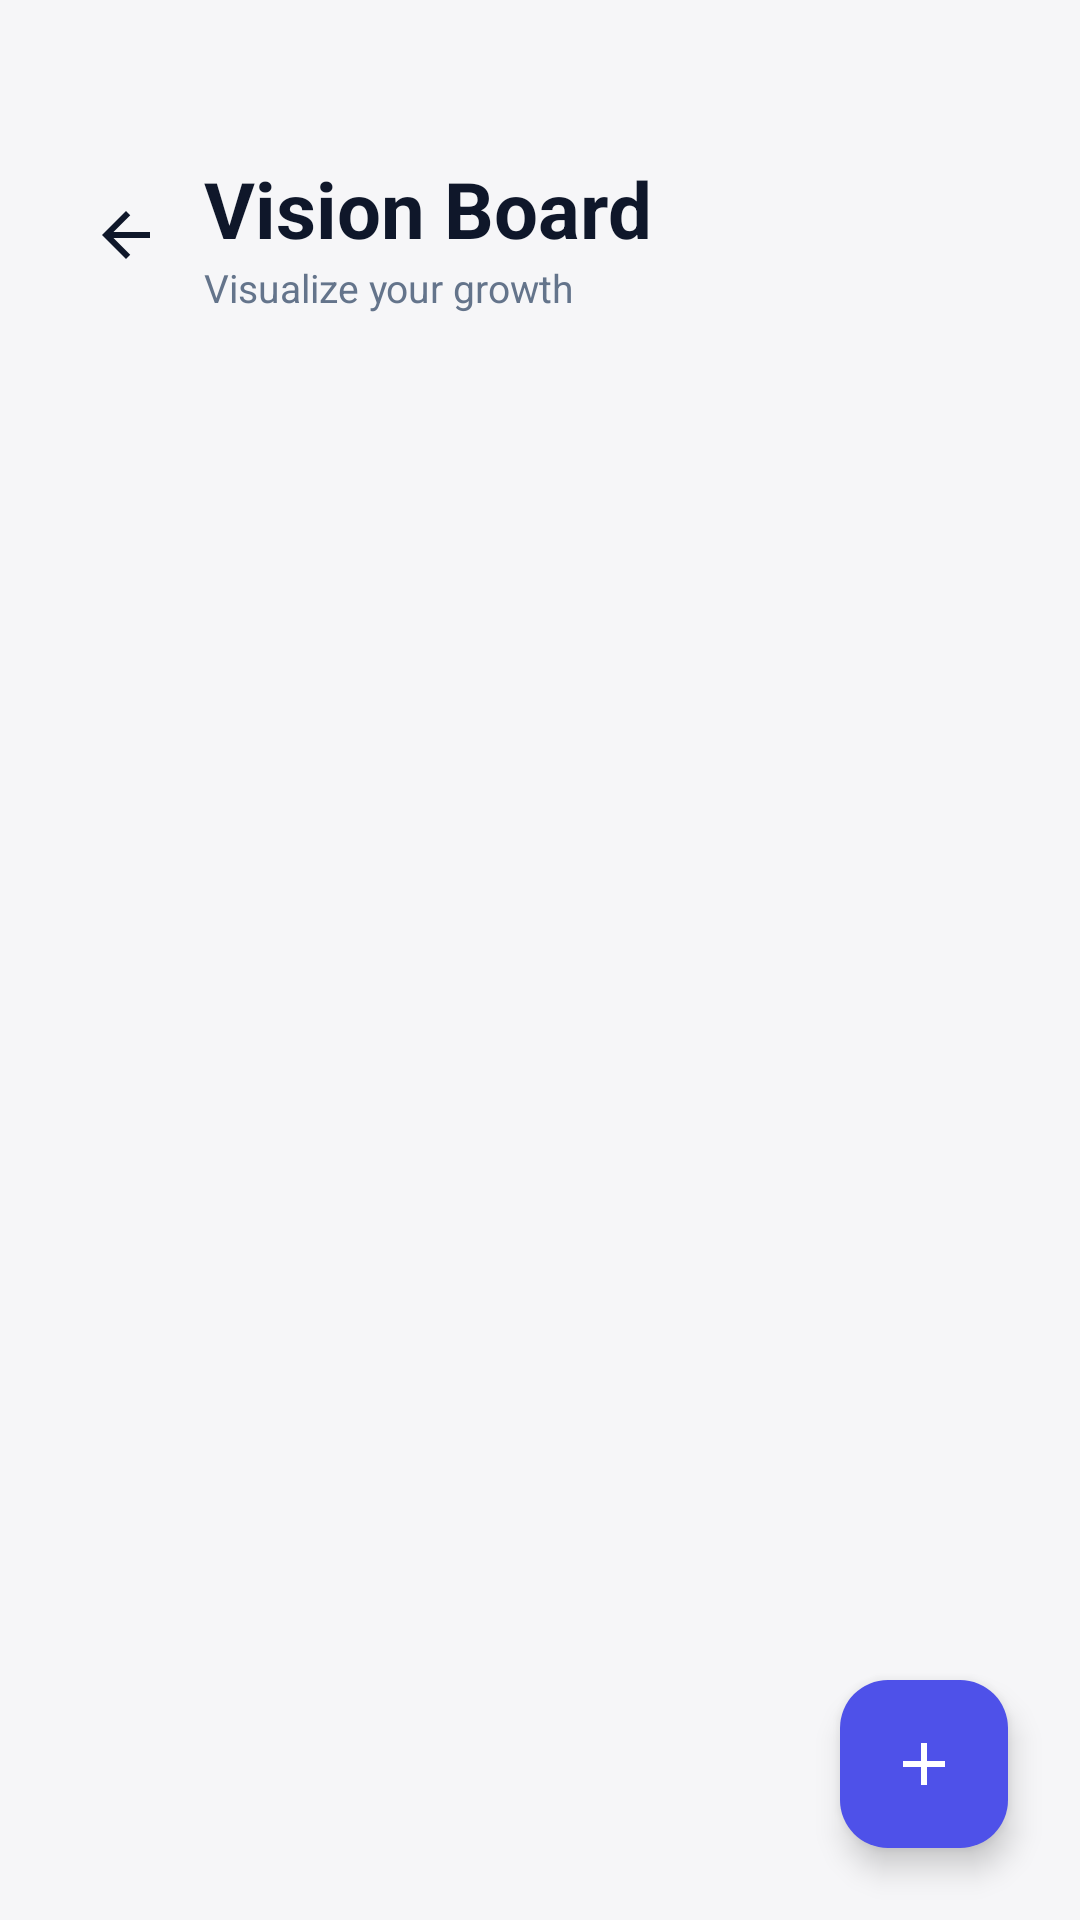

Where icons sit on this 1080 x 1920 app screen, as (x1, y1, x2, y2):
Add vision: (840, 1680, 1008, 1848)
arrow back: (102, 211, 150, 259)
